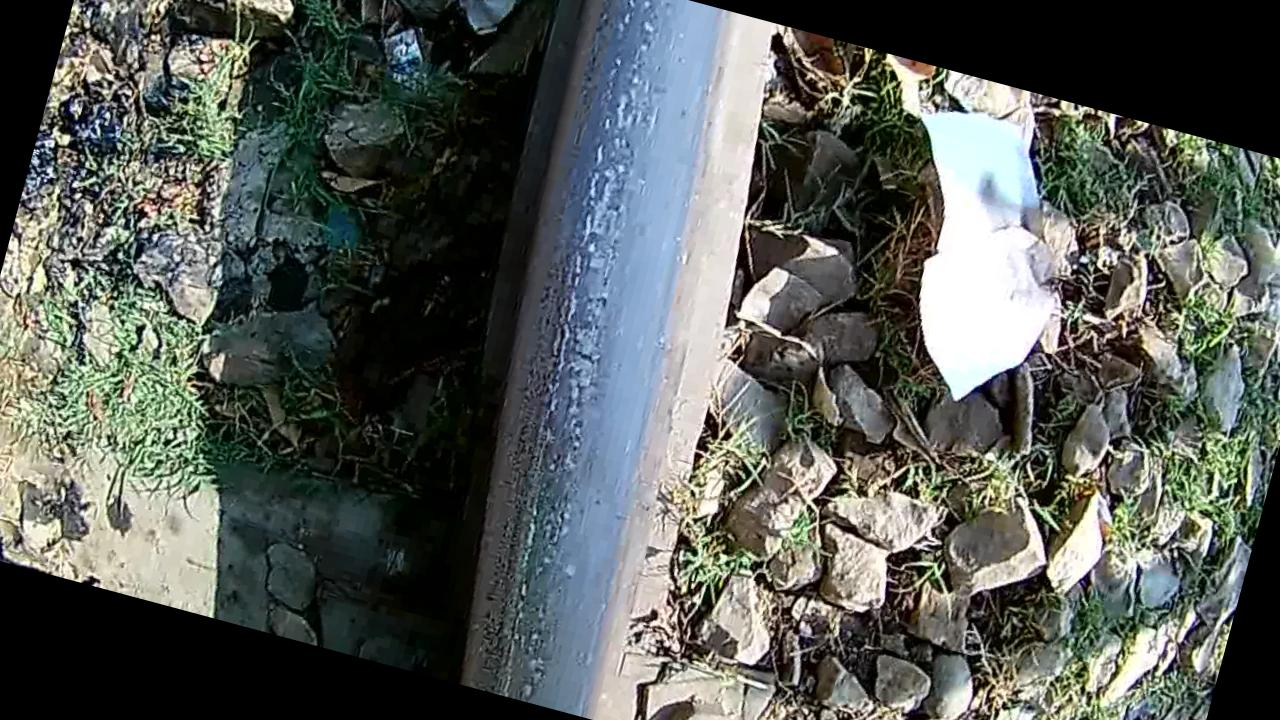clip_missing: (429, 0, 746, 706)
